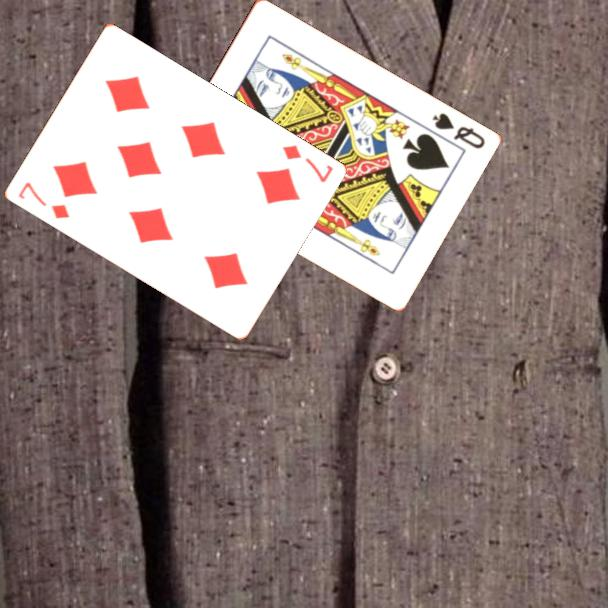d07: (279, 141, 336, 186), (14, 178, 72, 222)
s12: (428, 109, 488, 152)
